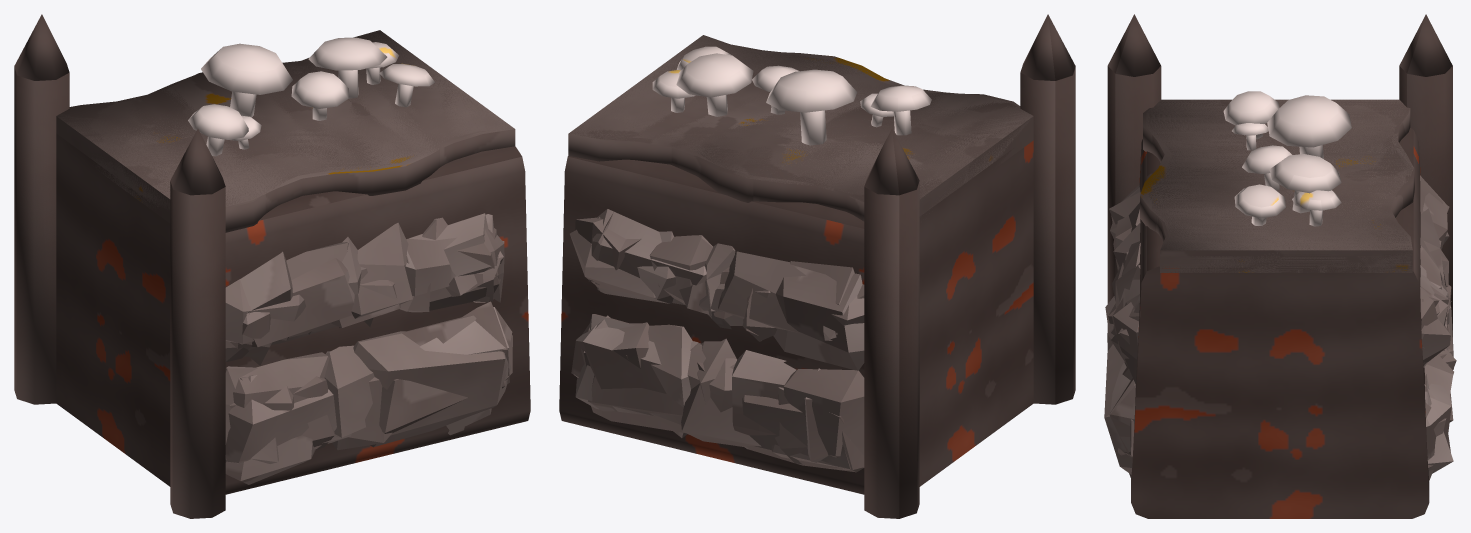
The model's file is border.glb.
3 renders of one model, left to right at view 1: azimuth 30°, elevation 25°; view 2: azimuth 150°, elevation 25°; view 3: azimuth 270°, elevation 25°, orthographic. The views are drawn at different scales.
Visible parts, largest first — view 1: border_0, border_2, border_3, border_4, border_1, border_5; view 2: border_0, border_2, border_3, border_4, border_5, border_1; view 3: border_0, border_1, border_2, border_3, border_4, border_5.
Part boxes in pixels (x1,y1,x2,y2): border_0: (14, 14, 530, 518); border_2: (14, 31, 511, 518); border_3: (68, 31, 515, 462); border_4: (14, 32, 512, 518); border_1: (57, 30, 514, 463); border_5: (59, 34, 507, 463); border_0: (559, 14, 1075, 518); border_2: (571, 35, 1075, 518); border_3: (571, 35, 1031, 469); border_4: (570, 37, 1075, 518); border_5: (576, 37, 1033, 457); border_1: (569, 35, 1026, 462); border_0: (1107, 14, 1453, 518); border_1: (1107, 99, 1453, 462); border_2: (1104, 78, 1452, 474); border_3: (1108, 95, 1456, 478); border_4: (1107, 79, 1453, 481); border_5: (1105, 99, 1451, 469).
Size of the model in its own units: 1.08 by 1.09 by 0.9868.
1 material, 1 textured.
